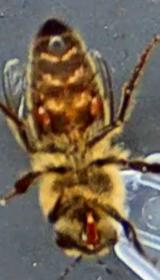varroa_mite: (24, 96, 60, 131), (81, 87, 112, 123)
